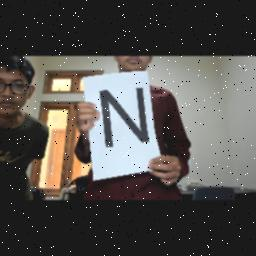n: (94, 84, 158, 148)
